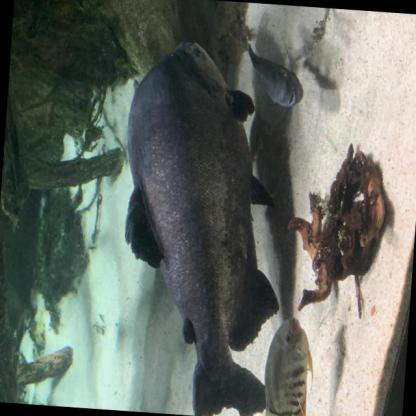fish: (107, 32, 303, 416), (262, 314, 324, 415), (244, 42, 306, 108)
